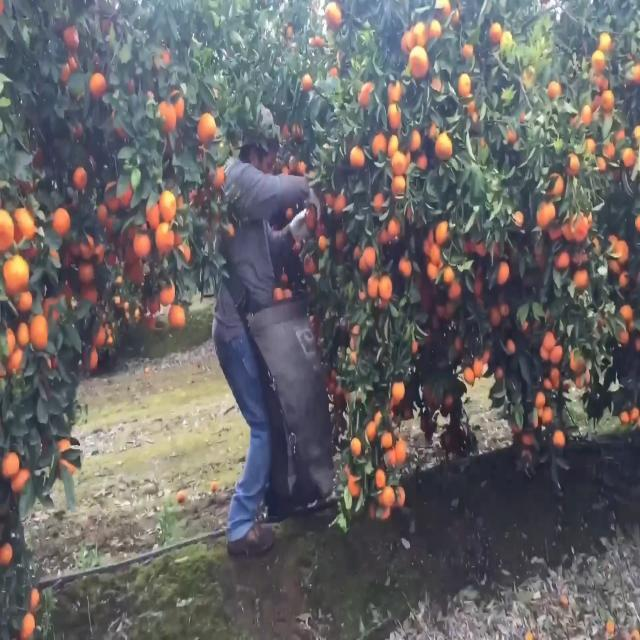Jeruk Sudah Matang: (156, 100, 178, 136), (196, 112, 216, 150), (154, 222, 176, 255), (408, 44, 428, 80), (168, 86, 186, 122), (158, 188, 177, 222), (535, 199, 556, 229), (89, 72, 108, 105), (51, 207, 72, 235), (436, 132, 454, 164), (348, 146, 367, 172), (159, 276, 175, 306), (82, 346, 98, 376), (168, 301, 185, 329), (133, 231, 151, 257), (78, 258, 96, 284), (90, 319, 106, 347), (370, 132, 388, 156), (564, 150, 582, 174), (390, 174, 408, 197), (79, 233, 95, 258), (384, 79, 402, 101), (407, 126, 422, 152), (496, 261, 511, 287), (378, 276, 394, 300), (436, 218, 452, 242), (546, 80, 562, 104), (600, 88, 616, 112), (457, 74, 472, 99), (363, 245, 379, 268), (72, 168, 87, 192), (366, 272, 381, 296), (590, 50, 608, 70), (392, 152, 408, 174), (391, 378, 407, 400), (488, 306, 502, 330), (382, 484, 396, 508), (398, 256, 413, 278), (333, 192, 346, 217), (554, 252, 570, 272), (448, 280, 463, 301), (95, 202, 108, 226), (542, 330, 556, 352), (574, 270, 589, 290), (428, 19, 443, 39), (472, 356, 485, 379), (396, 439, 408, 463), (489, 20, 502, 42), (350, 436, 364, 456), (551, 346, 565, 366), (462, 364, 476, 384), (554, 428, 566, 450), (372, 191, 384, 213), (388, 218, 401, 237), (365, 419, 377, 439), (604, 138, 616, 158), (504, 337, 517, 355), (580, 105, 591, 125), (381, 428, 393, 446), (301, 75, 313, 93), (374, 471, 386, 488), (584, 138, 596, 154), (444, 266, 454, 282), (536, 393, 546, 408)
